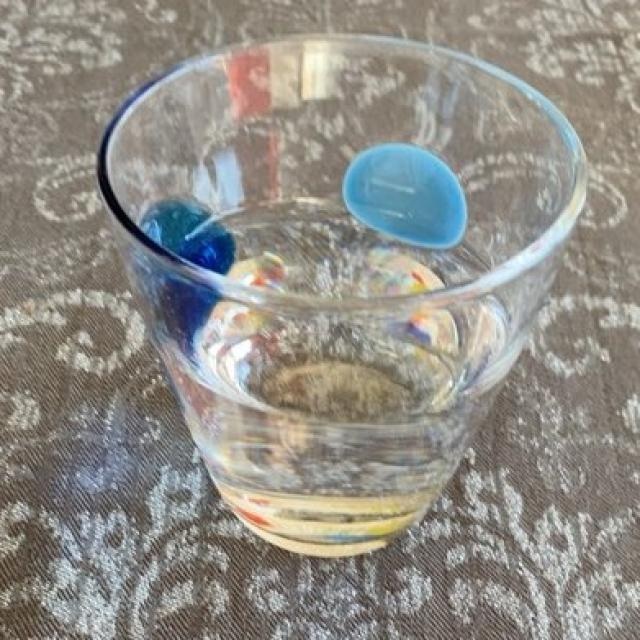water: (151, 208, 538, 565)
